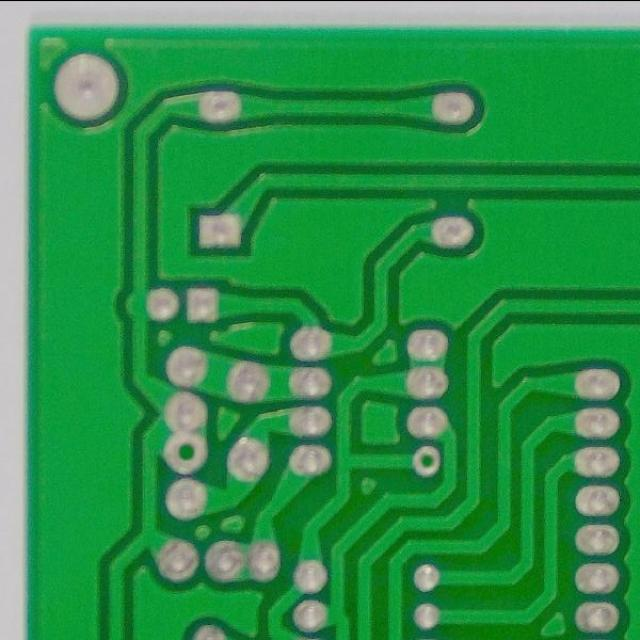Missing_Hole: (154, 426, 216, 479), (407, 443, 445, 480)
